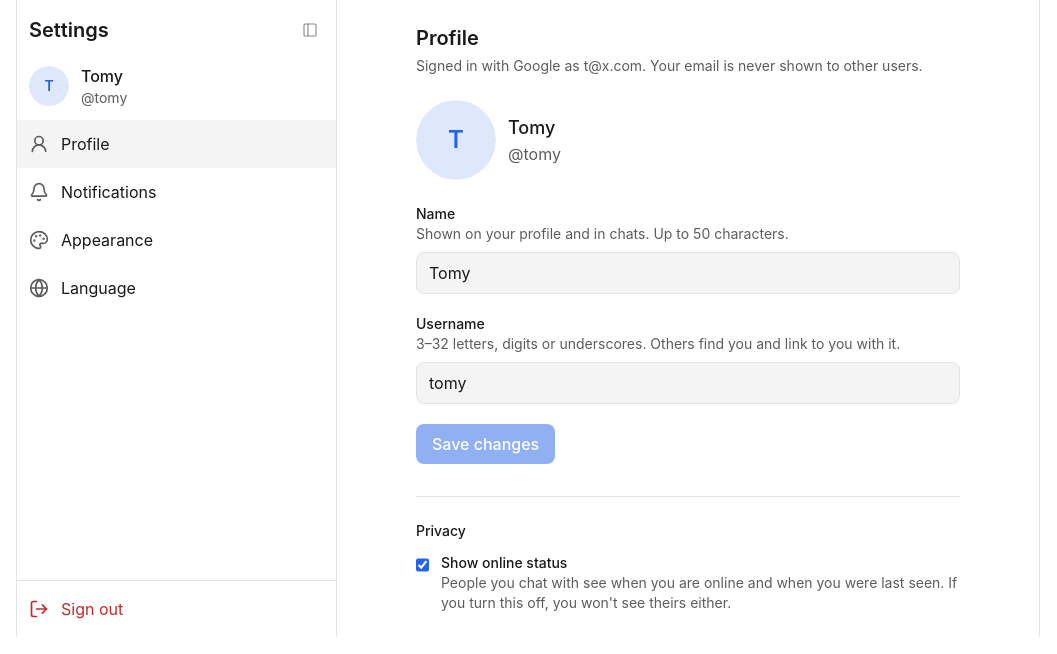
Test: SettingsLayout › collapses the menu to icons that keep their names
Click the button named "Collapse sidebar": (310, 30) x1=296 y1=16 x2=324 y2=44
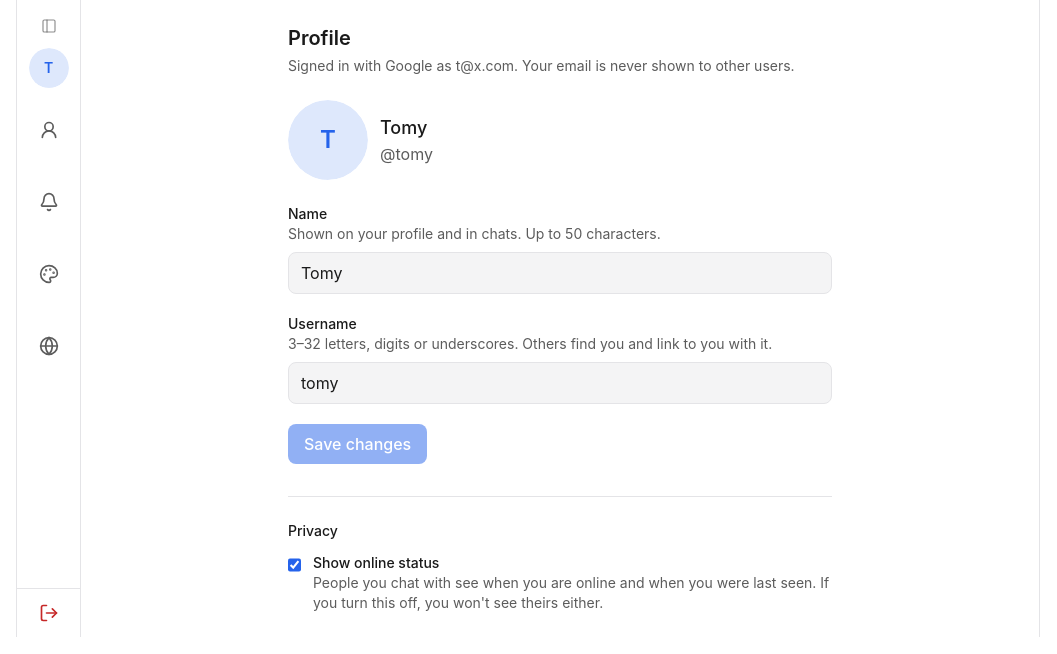
Expected: the heading "Settings" is gone
Click the 3rd link named "Appearance": (44, 252) x1=38 y1=242 x2=58 y2=306
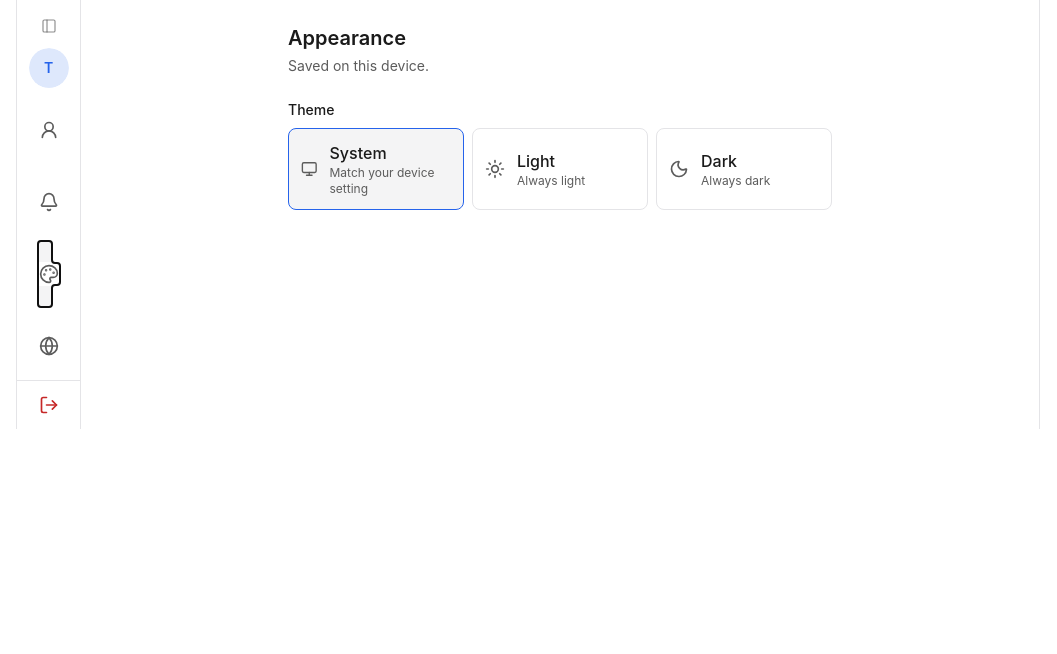
Expected: the heading "Appearance" is shown, x1=288 y1=24 x2=406 y2=52
Click the button named "Expand sidebar": (48, 26) x1=34 y1=12 x2=62 y2=40
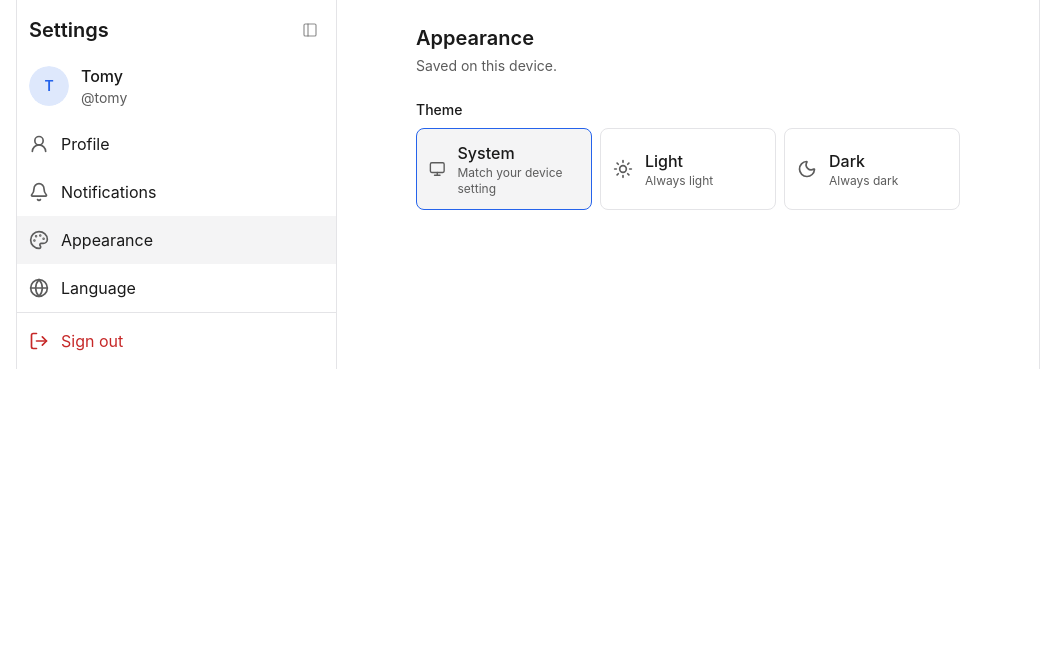
Expected: the heading "Settings" is shown, x1=29 y1=16 x2=109 y2=44
